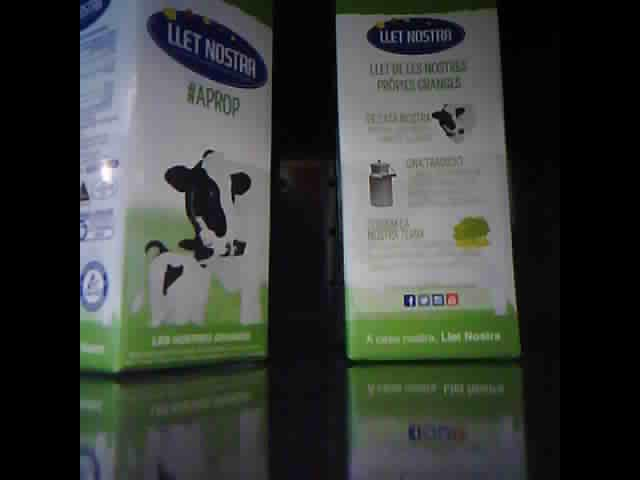leche: (77, 2, 279, 376), (335, 5, 527, 361)
